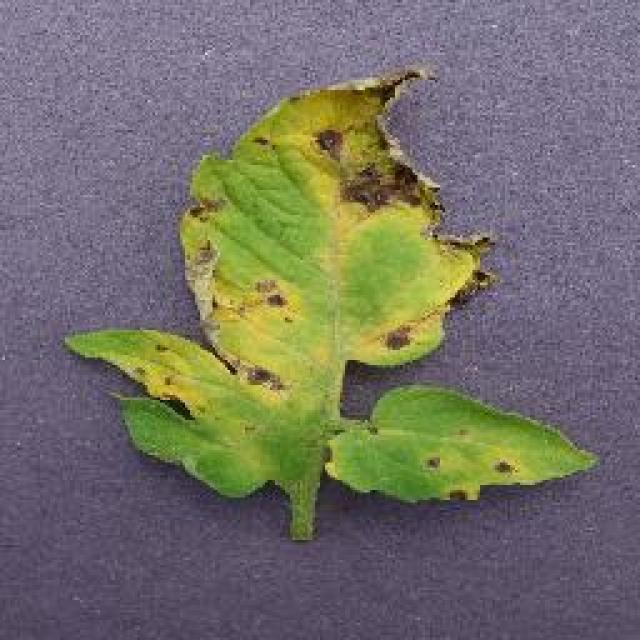Tomato Septoria spot leaf: (70, 68, 606, 504)
